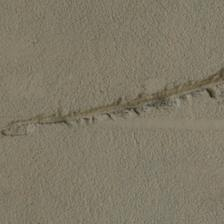Crack: (5, 34, 217, 105)
